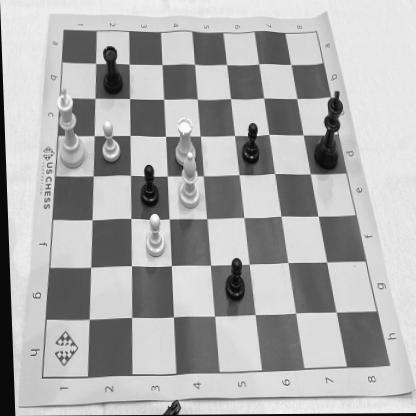black-king: (310, 88, 346, 172)
black-pawn: (219, 254, 247, 307), (136, 162, 160, 210), (239, 118, 259, 168)
black-rook: (98, 43, 126, 98)
white-bishop: (172, 148, 202, 214)
white-king: (51, 82, 88, 174)
white-pawn: (138, 212, 167, 261), (98, 116, 122, 166)
white-rook: (170, 112, 197, 171)
